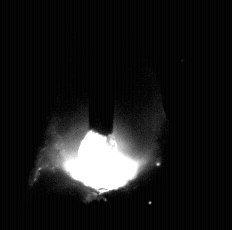arame: (90, 0, 114, 136)
poca: (46, 0, 160, 230)
